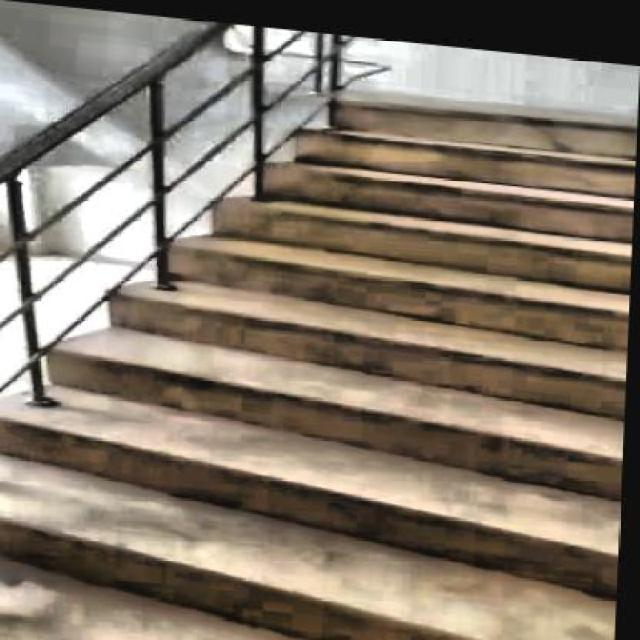stair: (0, 56, 637, 638)
